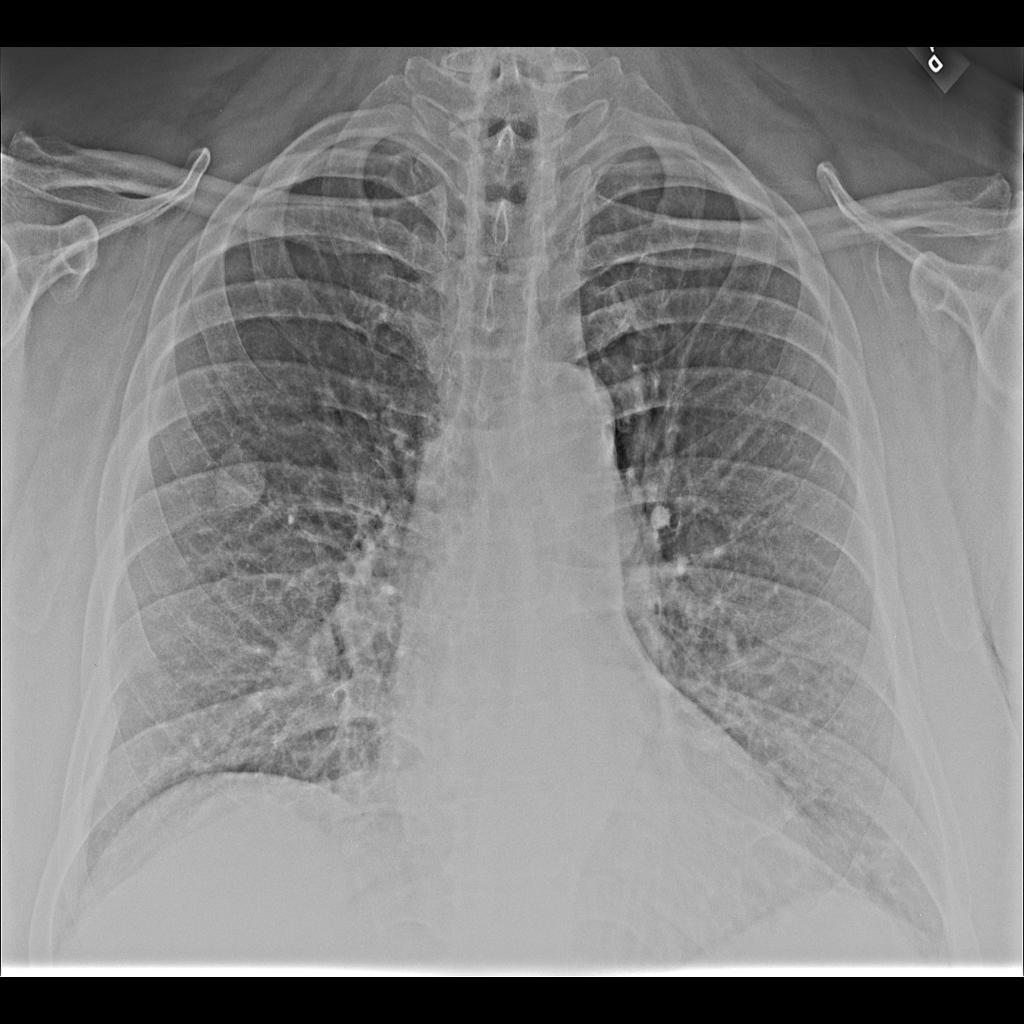Nodule: (264, 605, 340, 693), (206, 435, 275, 525)
